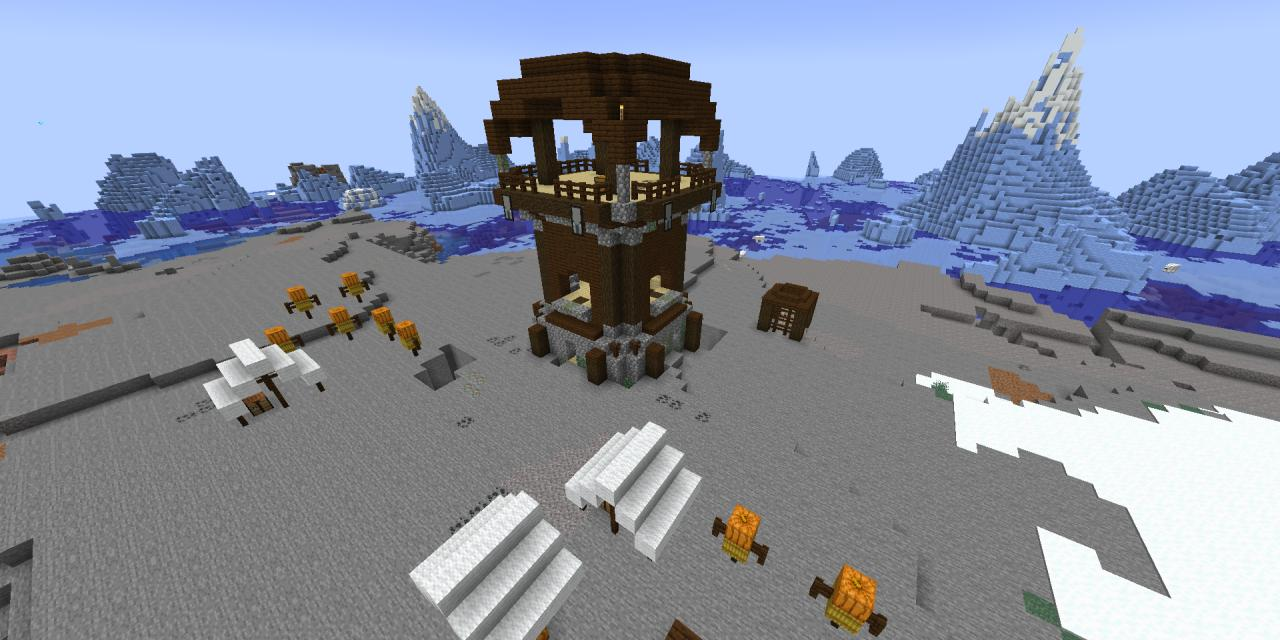pillager outpost: (477, 38, 739, 389)
